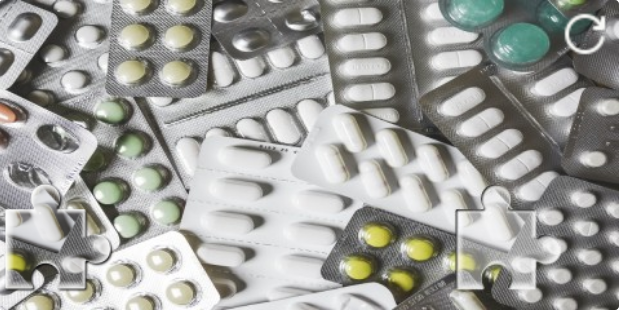target: (456, 185, 561, 290)
